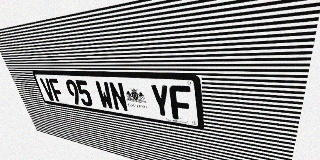5: (75, 80, 94, 107)
9: (64, 79, 83, 105)
F: (169, 85, 192, 122), (48, 78, 65, 103)
N: (108, 82, 129, 112)
V: (39, 78, 56, 101)
W: (95, 81, 115, 110)
Y: (149, 84, 172, 119)
